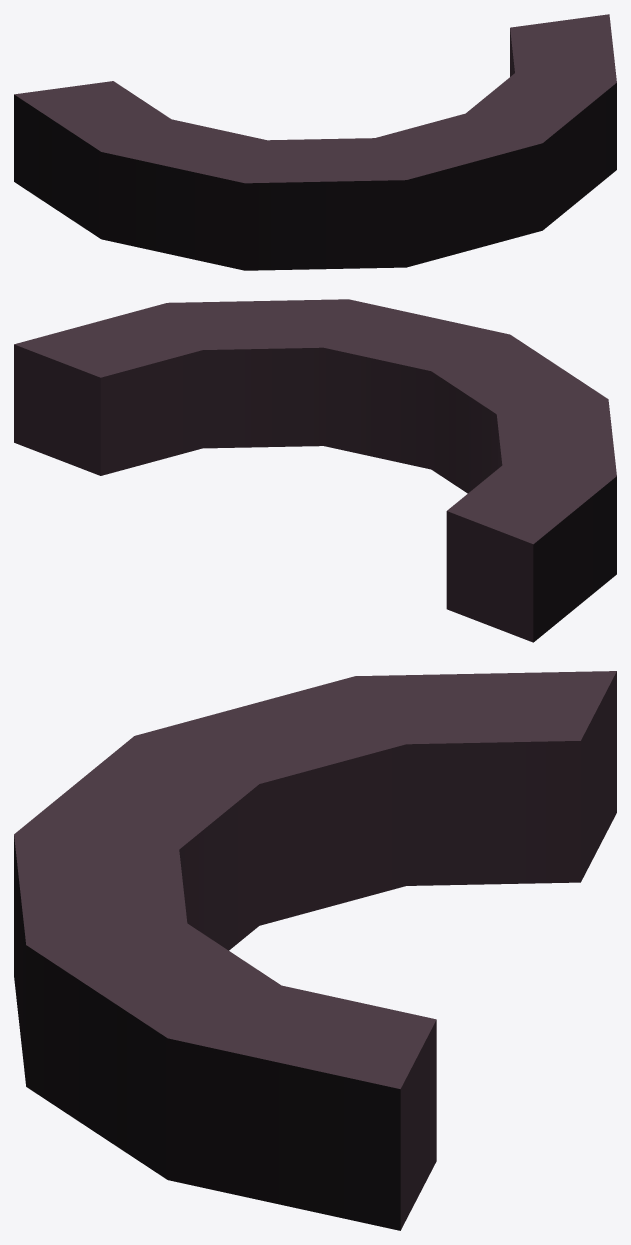
File: Olive_Slice_Oilives_0_001.glb
3 renders of one model, top to bottom at view 1: azimuth 30°, elevation 25°; view 2: azimuth 150°, elevation 25°; view 3: azimuth 270°, elevation 25°, orthographic. The views are drawn at different scales.
Visible parts, largest first — view 1: Olive_Slice_Oilives_0.001; view 2: Olive_Slice_Oilives_0.001; view 3: Olive_Slice_Oilives_0.001.
Part boxes in pixels (left/top/right/bottom): Olive_Slice_Oilives_0.001: left=14, top=14, right=616, bottom=270; Olive_Slice_Oilives_0.001: left=14, top=299, right=616, bottom=642; Olive_Slice_Oilives_0.001: left=14, top=671, right=616, bottom=1230.
Size of the model in its own units: 0.0633 by 0.01 by 0.0386.
1 material, 1 textured.
